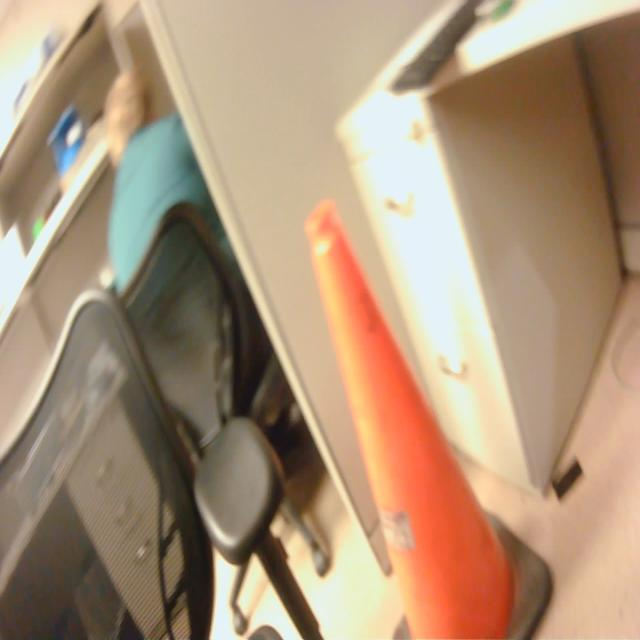traffic cone: (299, 187, 560, 640)
